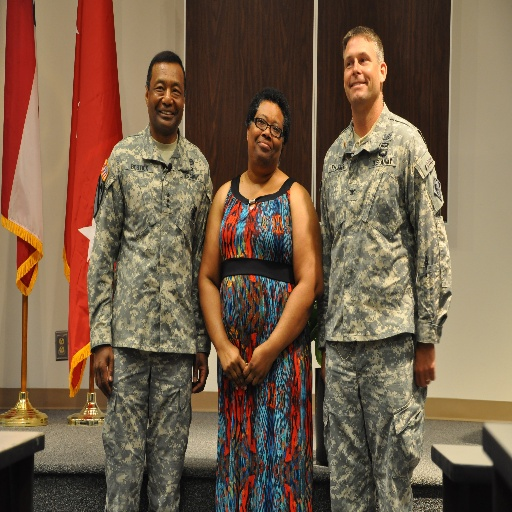hand: (244, 344, 272, 387), (92, 344, 114, 398), (218, 341, 245, 384), (412, 340, 435, 387), (190, 351, 208, 394), (320, 347, 325, 383)
